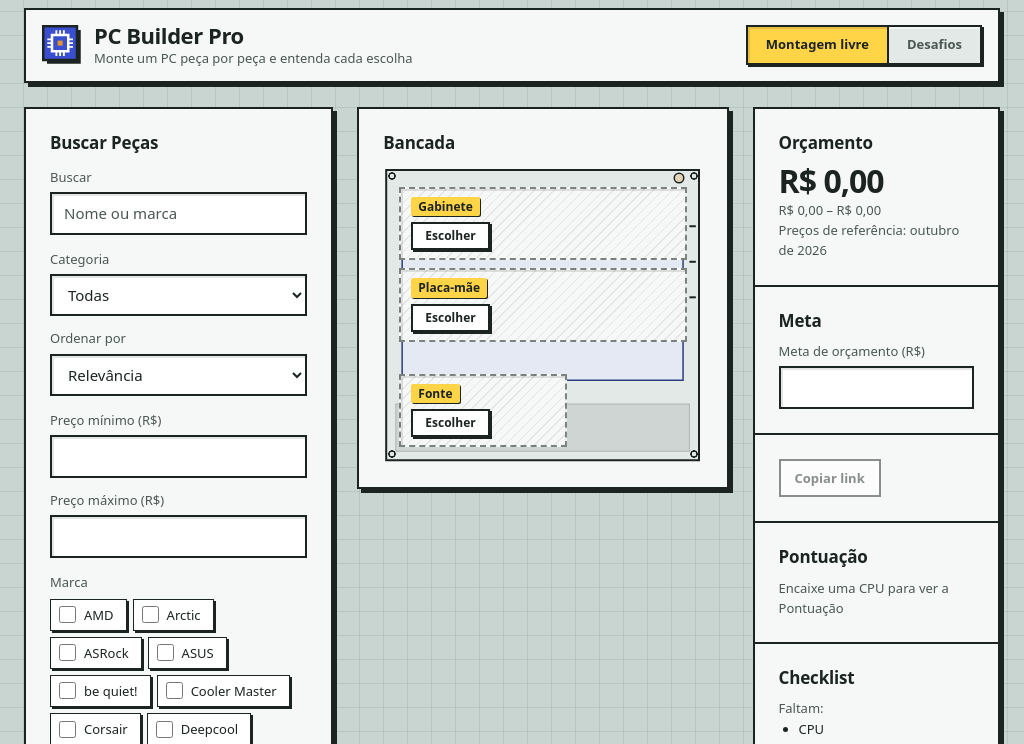
Scenario: Aplicacao › mostra estado vazio quando nada casa com a busca
Step 1. Type "xyzinexistente" into the search field labelled "Buscar" → (179, 214), box top-left (50, 192), bottom-right (307, 235)
(page scrolled)
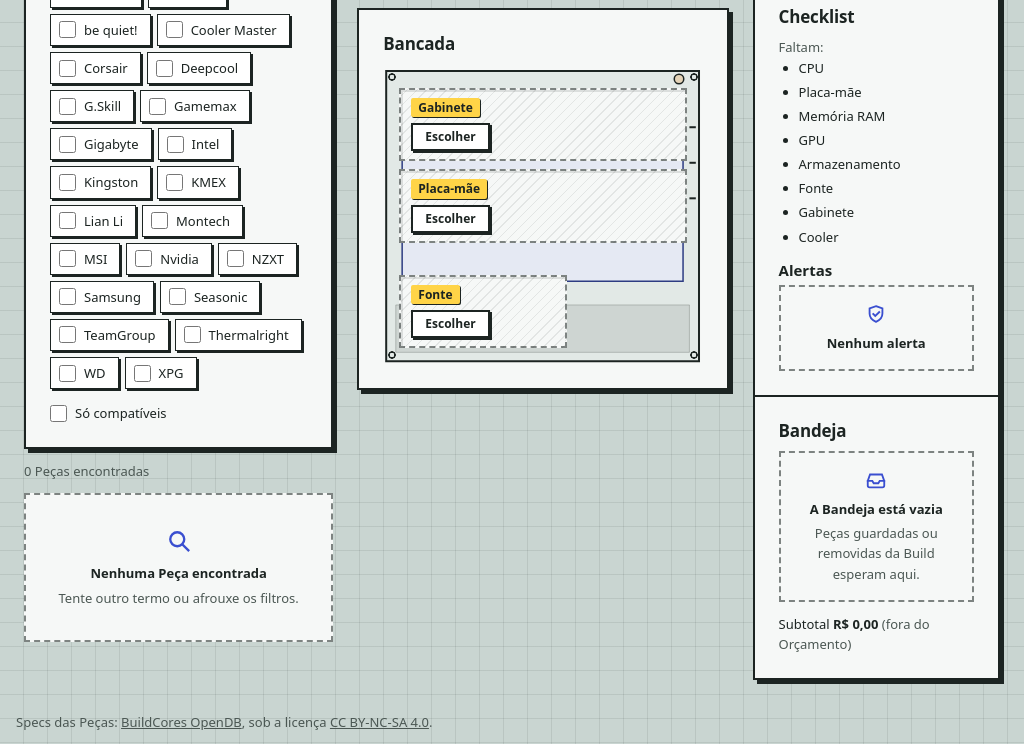
Expected: the text with test id "contagem-busca" does not show "Buscando", top-left (24, 462), bottom-right (149, 480)
Expected: the text "Nenhuma Peça encontrada" is shown, top-left (90, 564), bottom-right (267, 584)
